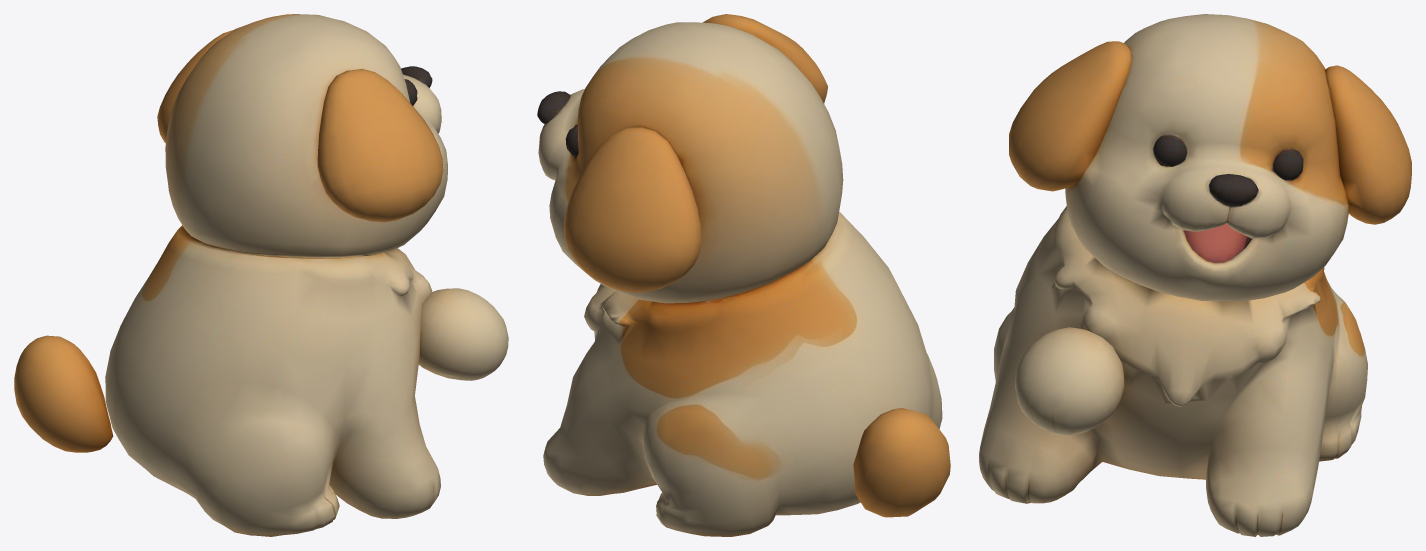
The model's file is puppy.glb.
The picture shows the model from 3 angles, left to right: view 1: azimuth 30°, elevation 25°; view 2: azimuth 150°, elevation 25°; view 3: azimuth 270°, elevation 25°; orthographic projection. The views are drawn at different scales.
Visible parts, largest first — view 1: tripo_node_76ad2792-eb43-4805-8e76-bb3bf807cf29; view 2: tripo_node_76ad2792-eb43-4805-8e76-bb3bf807cf29; view 3: tripo_node_76ad2792-eb43-4805-8e76-bb3bf807cf29.
Boxes of the visible parts, x1=… form: tripo_node_76ad2792-eb43-4805-8e76-bb3bf807cf29: x1=14, y1=14, x2=508, y2=536; tripo_node_76ad2792-eb43-4805-8e76-bb3bf807cf29: x1=537, y1=14, x2=950, y2=536; tripo_node_76ad2792-eb43-4805-8e76-bb3bf807cf29: x1=979, y1=14, x2=1411, y2=536.
Bounding box in the file's own units: 0.9668 × 0.998 × 0.8496.
1 material, 1 textured.
